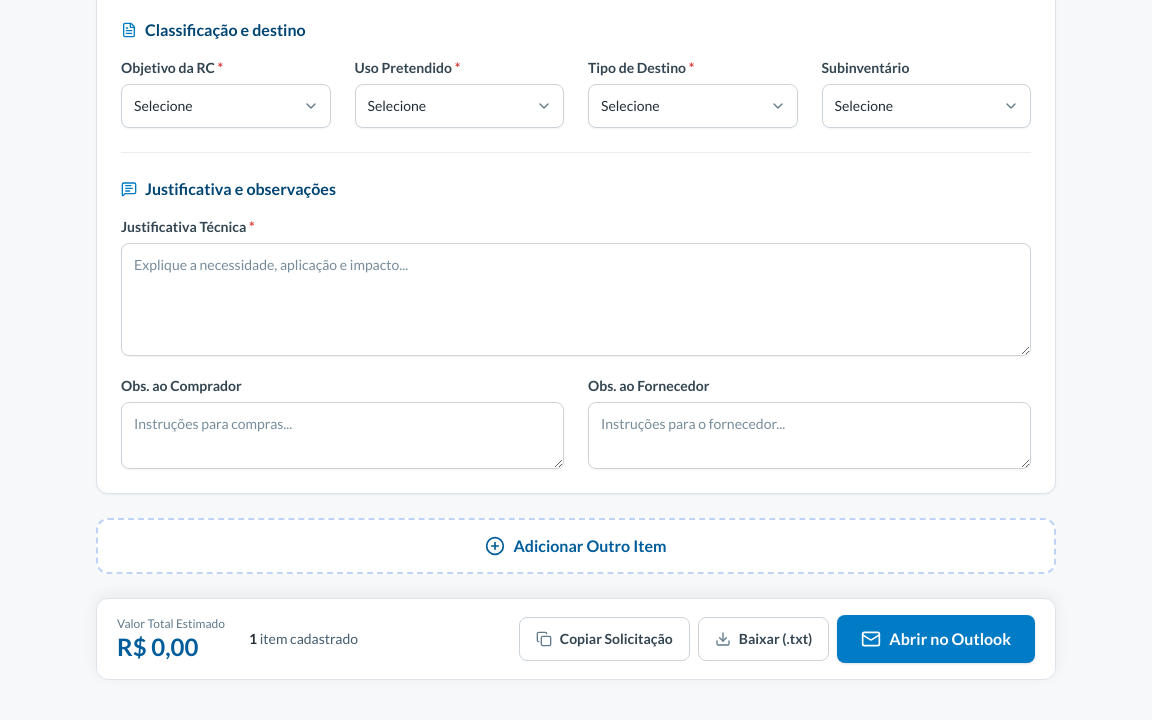
Test: App › Item Removal Logic › shows the remove button for all items when more than one item is present
(page scrolled)
Click the button "Adicionar Outro Item": (576, 546) [96,518,1056,574]
(page scrolled)
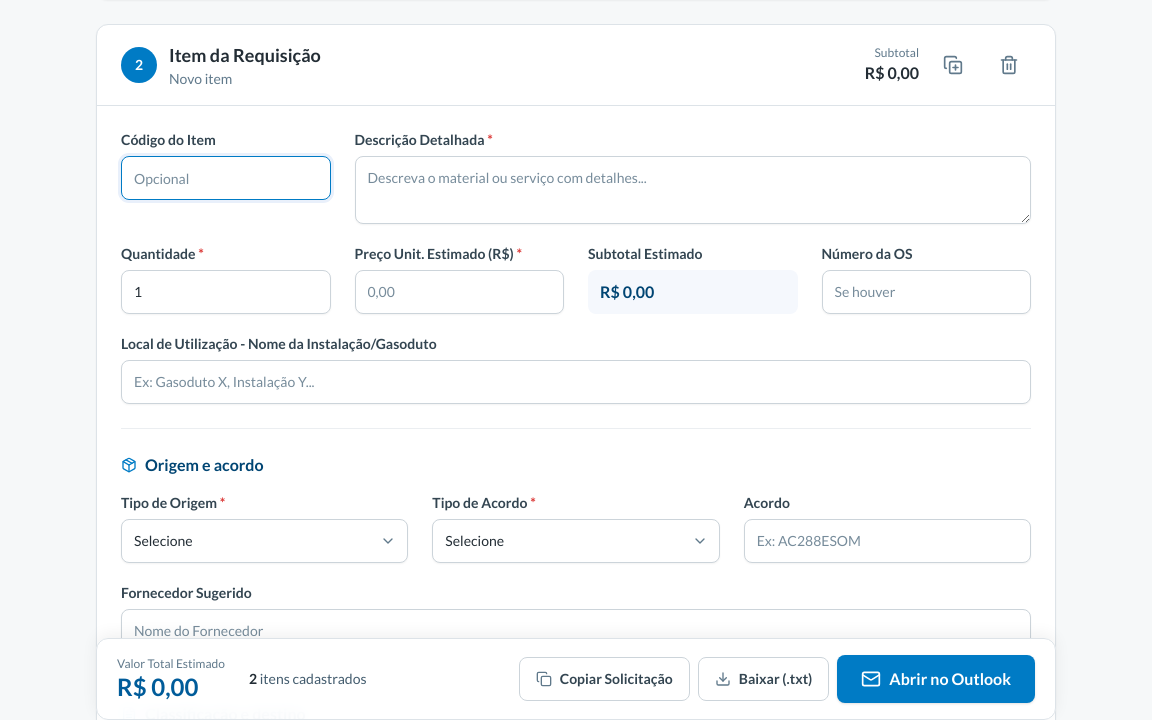
Check: the number of elements titled "Remover Item" is 2
